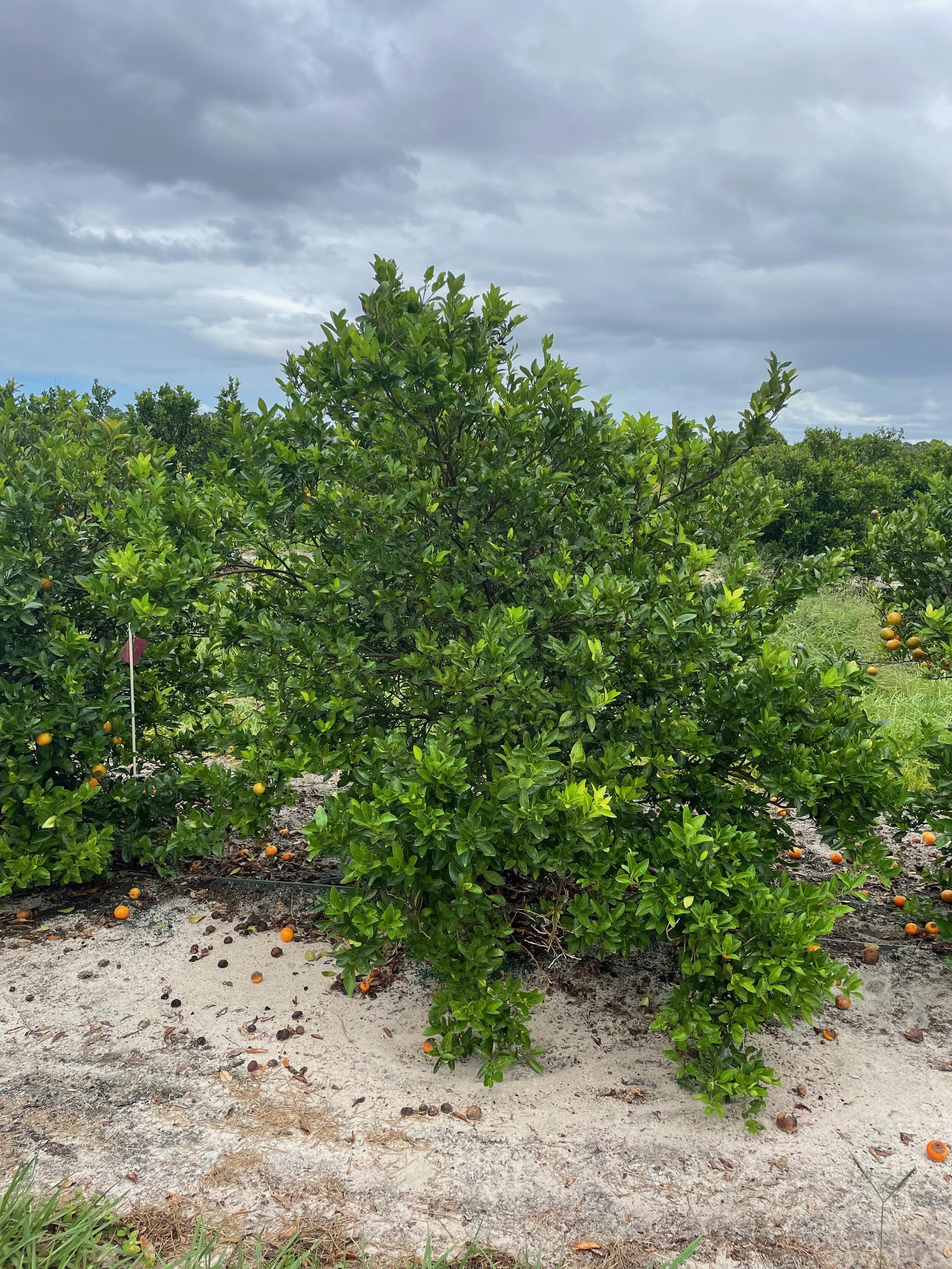fruit_on_ground: (34, 572, 56, 594), (33, 729, 54, 748), (89, 762, 109, 781), (886, 610, 904, 628), (81, 774, 100, 791), (98, 718, 115, 734), (904, 635, 922, 650), (251, 780, 267, 796), (885, 637, 902, 652), (878, 626, 895, 641), (920, 659, 936, 673), (110, 732, 124, 747), (911, 647, 926, 661), (887, 631, 902, 645), (866, 664, 878, 677), (870, 509, 880, 517)
fruit_on_tree: (924, 1137, 950, 1162), (775, 1110, 798, 1132), (859, 944, 881, 965), (278, 925, 296, 943), (112, 903, 131, 920), (365, 965, 383, 982), (420, 1037, 438, 1054), (835, 993, 853, 1010), (821, 1025, 838, 1041), (15, 907, 33, 921), (356, 978, 371, 994), (127, 884, 143, 899), (245, 1059, 261, 1073), (938, 888, 952, 904), (924, 920, 940, 934), (903, 921, 919, 935), (788, 845, 802, 860), (250, 970, 264, 984), (892, 894, 907, 907), (829, 851, 844, 864), (264, 844, 278, 857), (806, 941, 821, 953), (923, 834, 937, 846), (775, 806, 788, 818), (270, 945, 282, 958), (281, 850, 294, 862), (921, 830, 934, 841), (278, 826, 290, 836), (858, 888, 869, 898), (909, 836, 921, 844)
